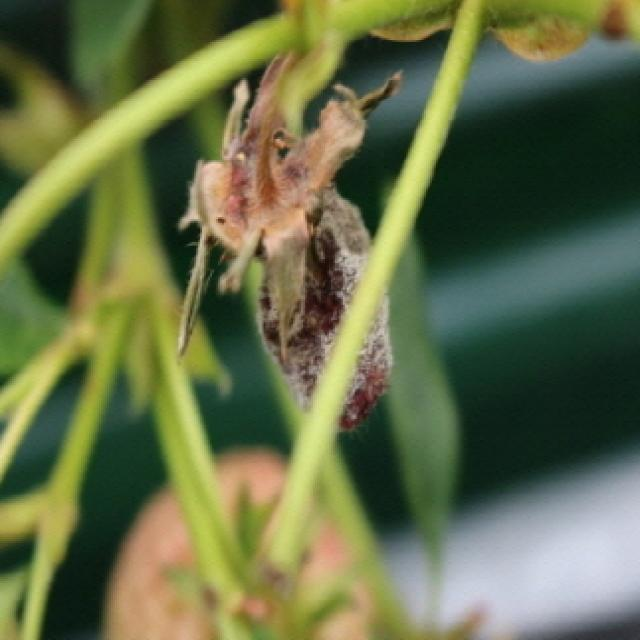Gray Mold: (176, 46, 405, 434)
